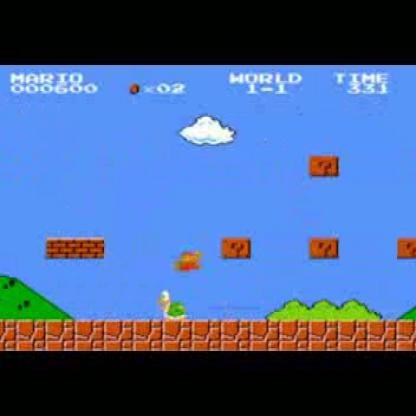Tortuga: (156, 287, 192, 324)
